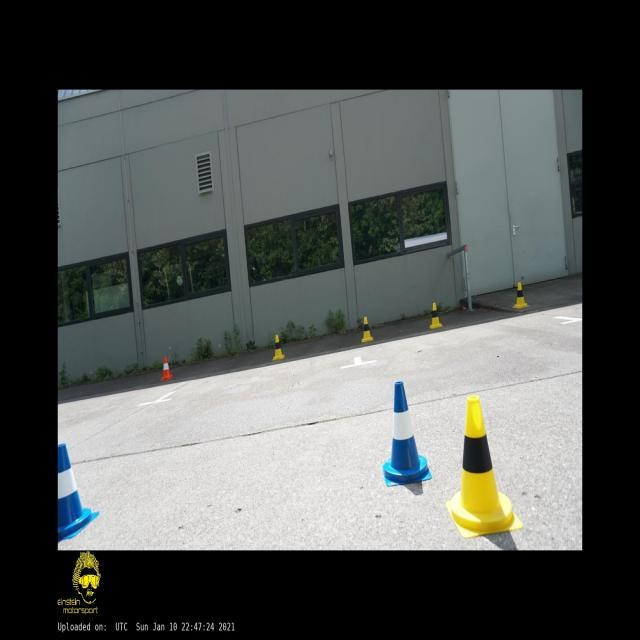blue_cone: (382, 381, 432, 486), (58, 443, 98, 539)
orange_cone: (160, 356, 173, 380)
yellow_cone: (445, 396, 523, 538), (512, 282, 529, 308), (429, 302, 442, 329), (272, 335, 285, 360), (362, 316, 372, 342)
